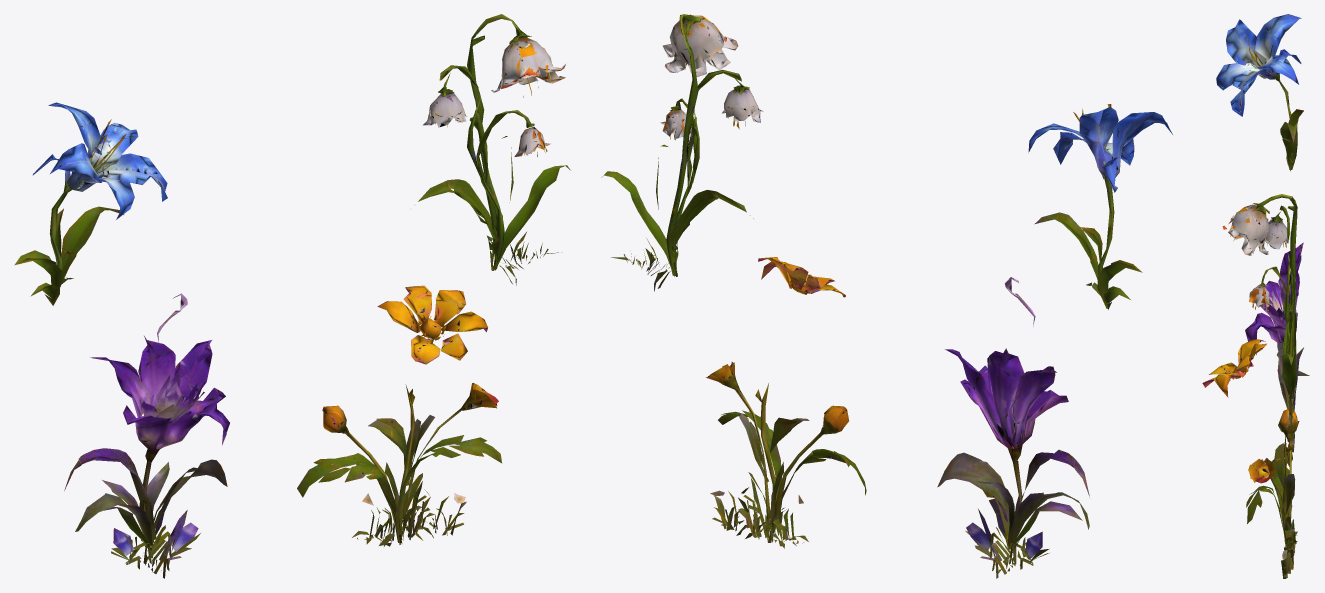
The model's file is blumen.glb.
The picture shows the model from 3 angles, left to right: view 1: azimuth 30°, elevation 25°; view 2: azimuth 150°, elevation 25°; view 3: azimuth 270°, elevation 25°; orthographic projection. The views are drawn at different scales.
Bounding box in the file's own units: 0.9487 × 0.8564 × 0.2021.
Materials: 1 (1 with a texture image).
